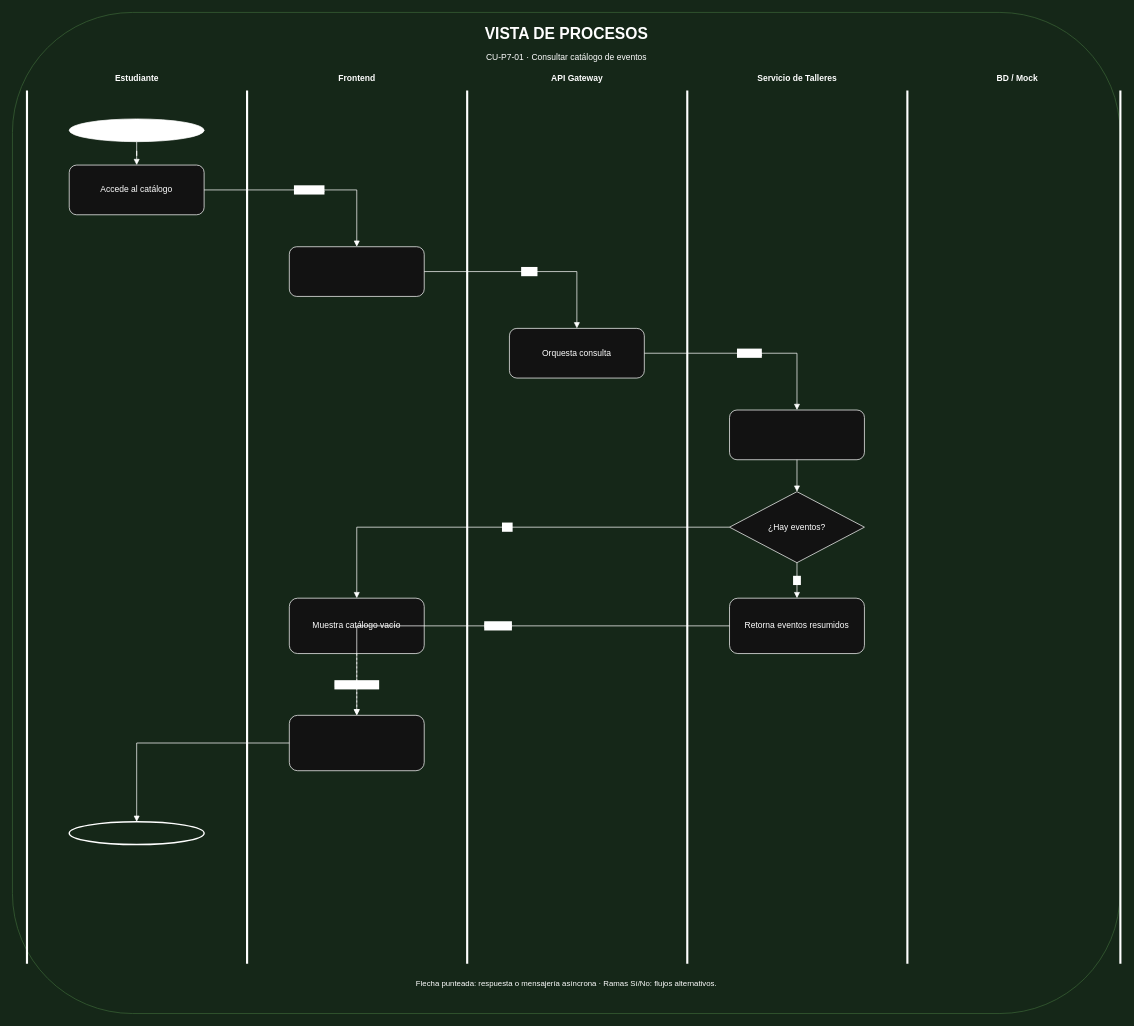
Some shapes in this 1134 by 1026 pixel diagram are drawn without their labels. The centre of each missing label's shape, as x and y in pixels:
"Consulta eventos publicados" goes at pixel 796 434.
"Renderiza tarjetas y cupos" goes at pixel 356 743.
"Solicita GET /mock/events" goes at pixel 356 271.
